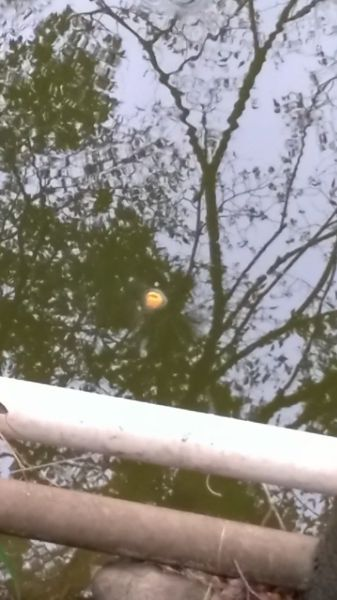eggs: (140, 285, 169, 313)
